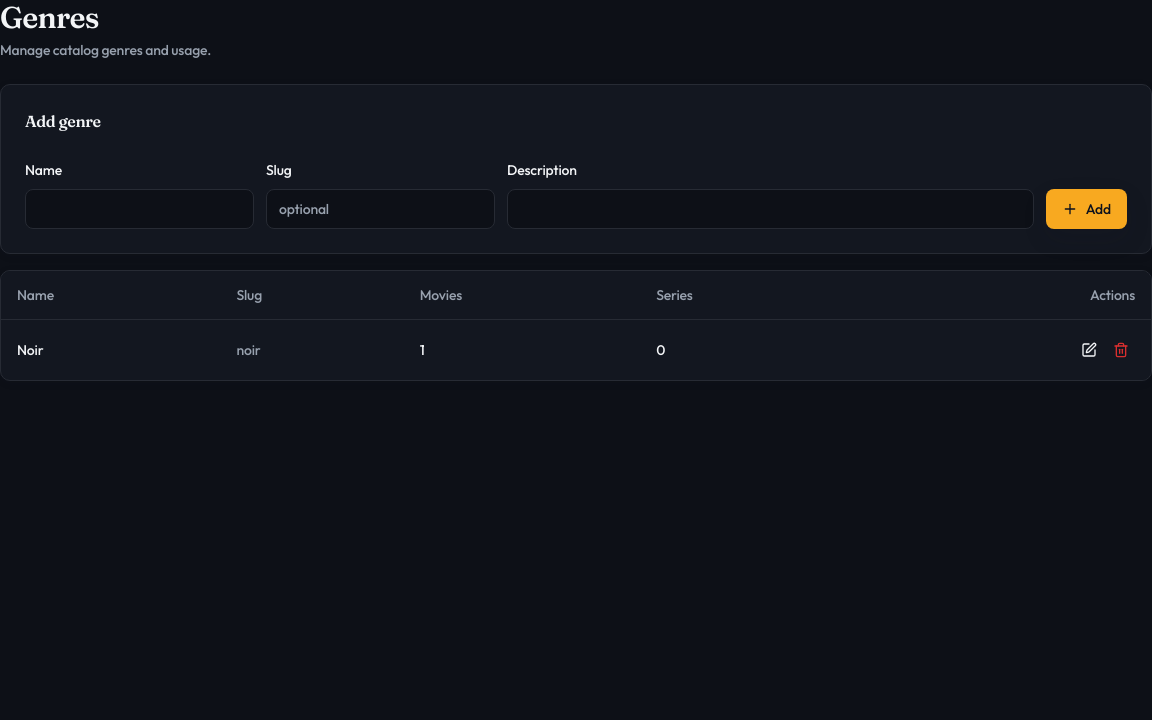
Test: admin auth & catalog pages › displays genre deletion conflict errors
Check: the text "Noir" is shown, box [1,319,220,380]
Click the button with test id "genre-delete-7". click: click(1121, 350)
box: [1107,336,1135,364]
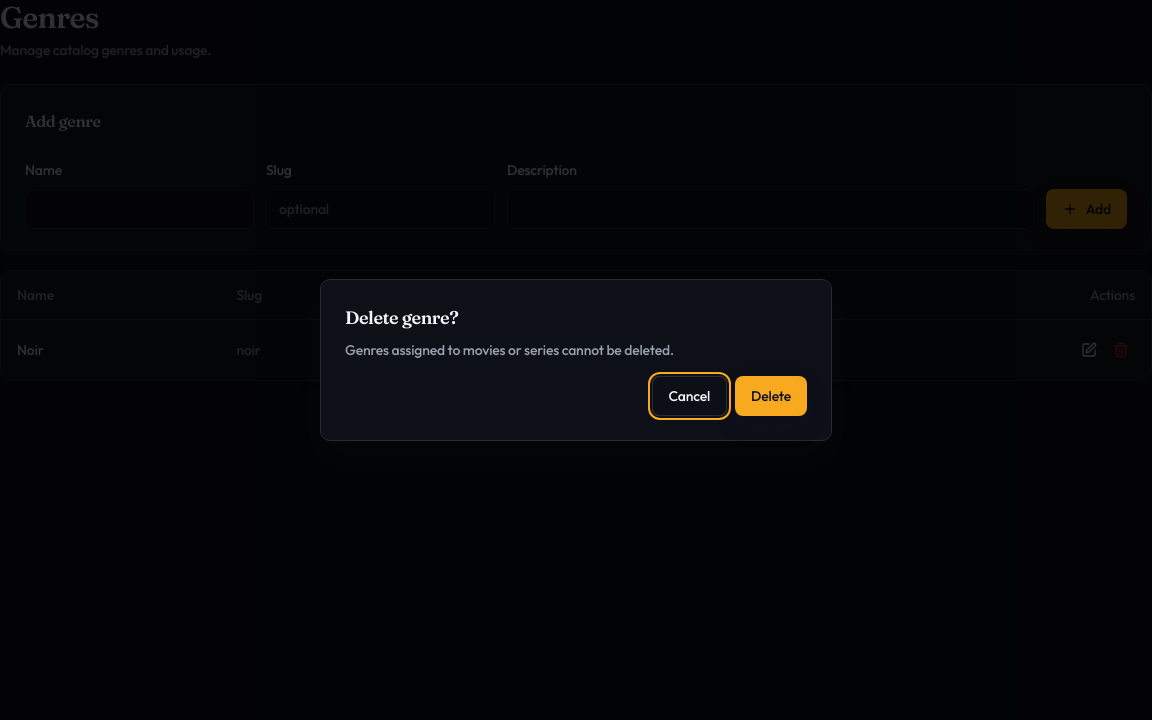
Check: the button with test id "genre-delete-confirm" is shown
Click the button with test id "genre-delete-confirm". click: click(771, 396)
box: [735,376,807,416]
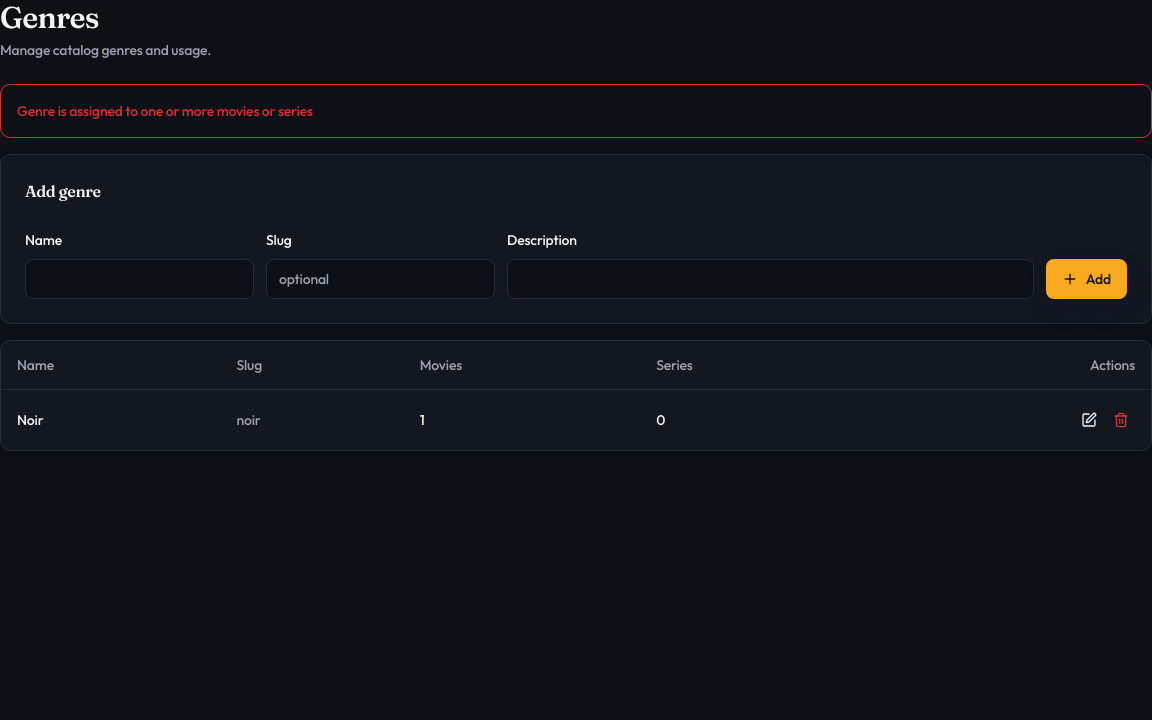
Check: the message with test id "genre-conflict-error" shows "assigned", box [17,102,313,120]
